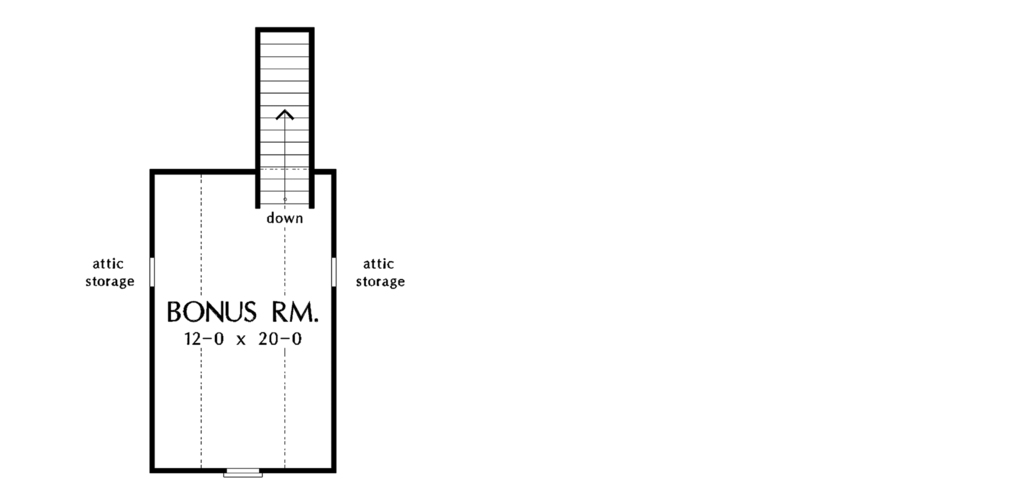stairs: (250, 22, 316, 211)
window: (226, 466, 265, 480)
